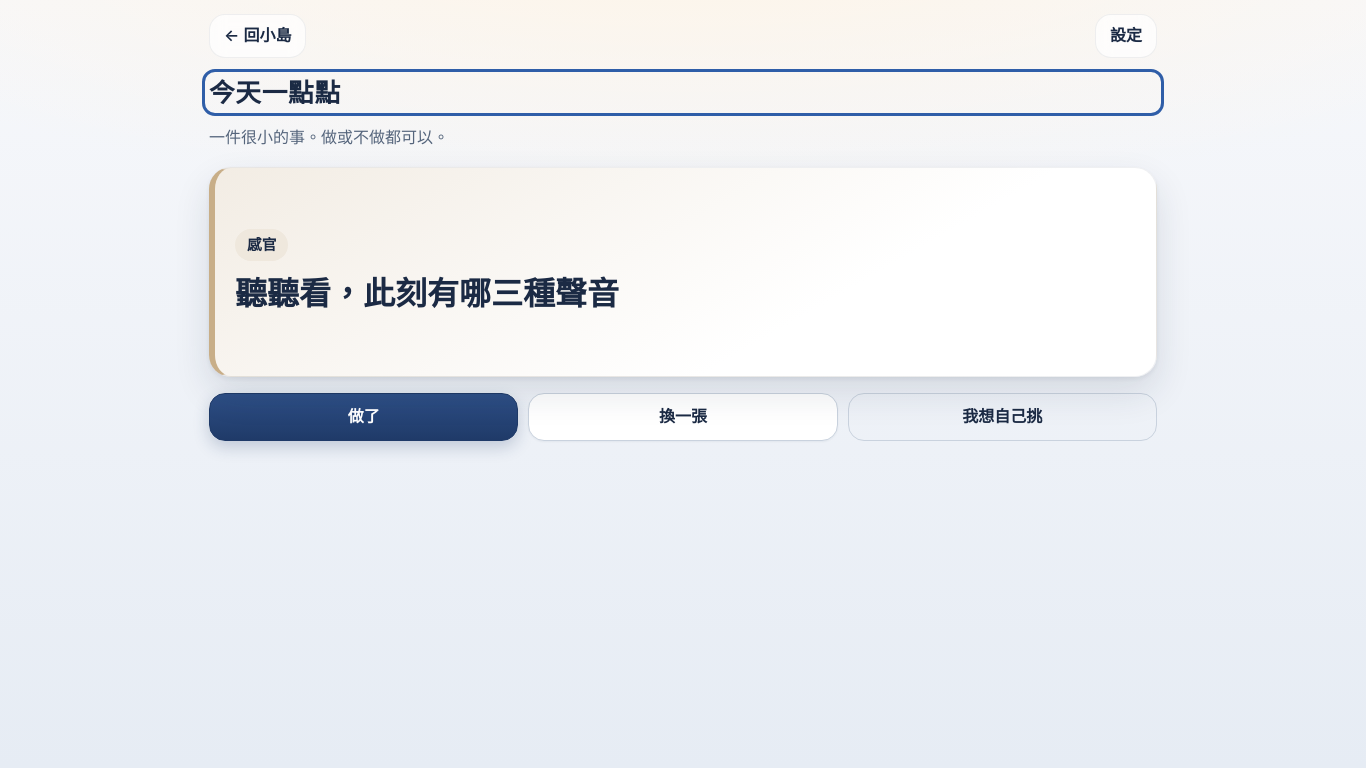
Test: 萌寵心靈島首頁 › 進入功能後焦點移到標題，「回小島」返回首頁
Expected: the heading reads "今天一點點", [209,75,341,110]
Click the button "← 回小島": point(258, 36) [209,14,306,58]
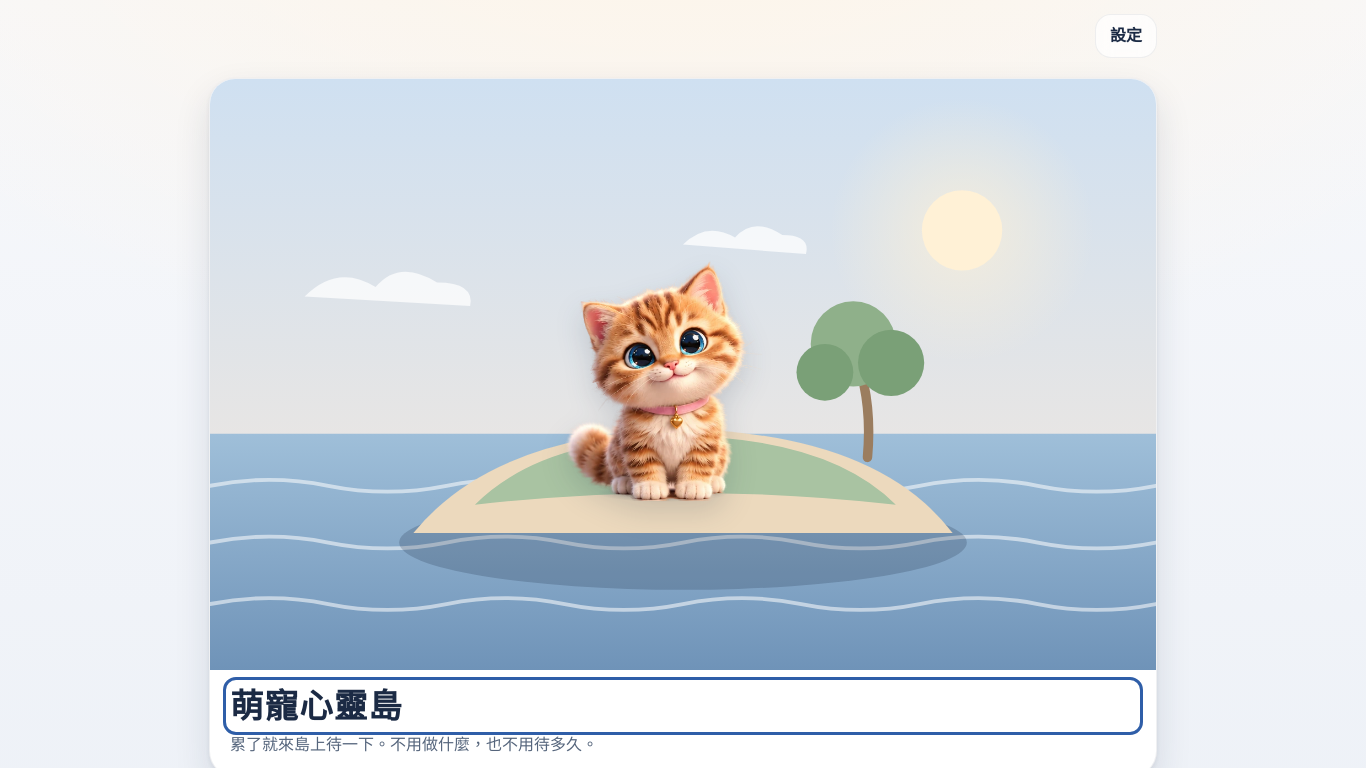
Expected: the heading reads "萌寵心靈島", [230,682,403,728]
